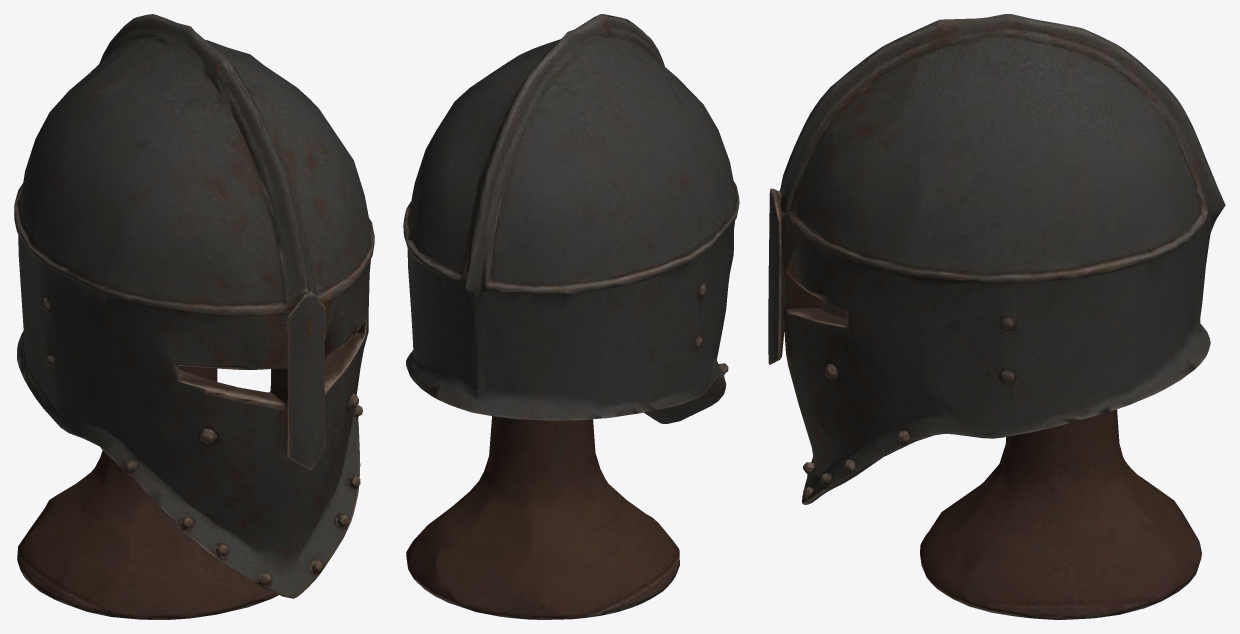
Rendered from helm.glb.
3 views of the same model, side by side, from view 1: azimuth 30°, elevation 25°; view 2: azimuth 150°, elevation 25°; view 3: azimuth 270°, elevation 25° (orthographic). The views are drawn at different scales.
Visible parts, largest first — view 1: Mesh_0; view 2: Mesh_0; view 3: Mesh_0.
Boxes of the visible parts, x1=… form: Mesh_0: x1=14, y1=14, x2=374, y2=619; Mesh_0: x1=403, y1=14, x2=739, y2=619; Mesh_0: x1=768, y1=14, x2=1225, y2=619.
Size of the model in its own units: 1.07 by 1.9 by 1.44.
Materials: 1 (1 with a texture image).
